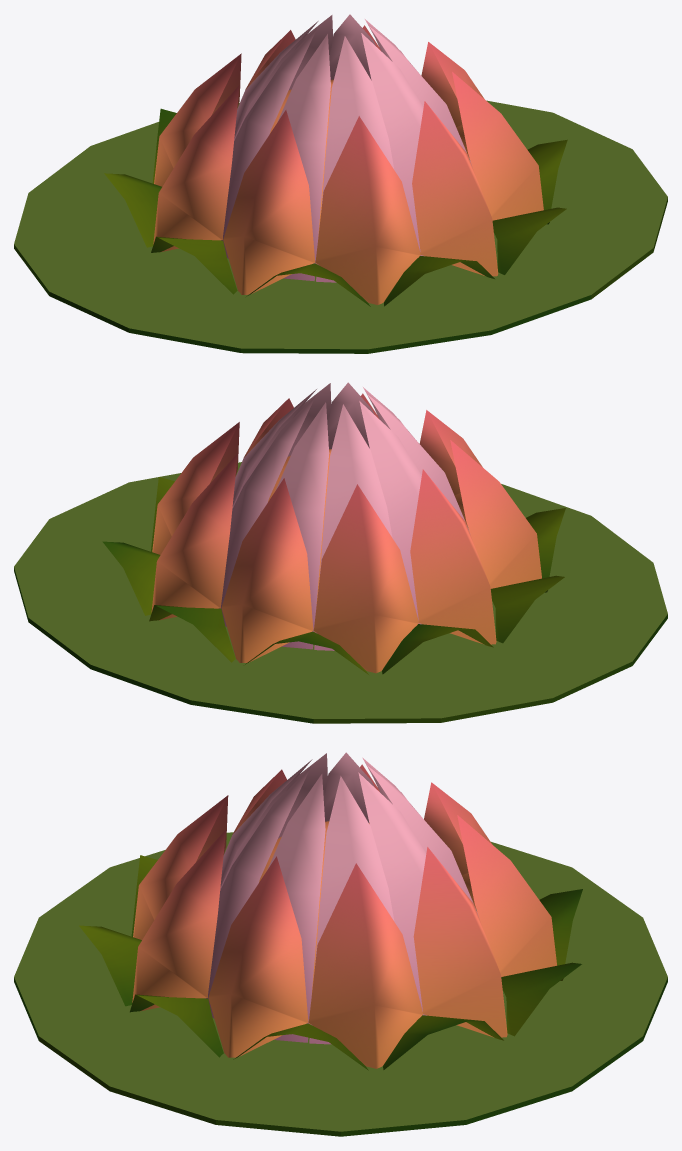
File: VEG0410005.fbx
3 renders of one model, top to bottom at view 1: azimuth 30°, elevation 25°; view 2: azimuth 150°, elevation 25°; view 3: azimuth 270°, elevation 25°, orthographic. The views are drawn at different scales.
Visible parts, largest first — view 1: smVEG0410005; view 2: smVEG0410005; view 3: smVEG0410005.
Part boxes in pixels (x1,y1,x2,y2): smVEG0410005: [14, 14, 667, 353]; smVEG0410005: [14, 382, 667, 723]; smVEG0410005: [14, 752, 667, 1136].
Bounding box in the file's own units: 60.72 × 19.99 × 54.19.
Materials: 1 (1 with a texture image).
